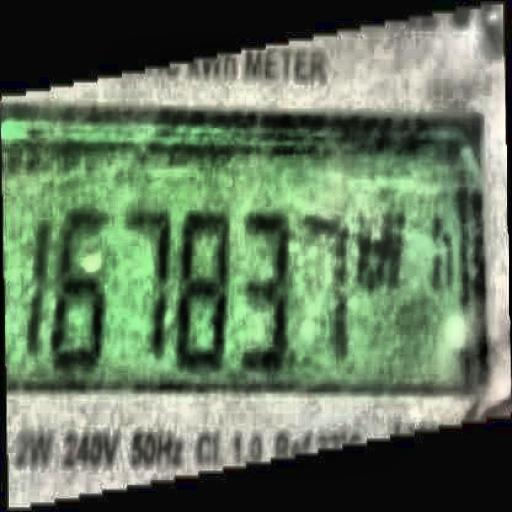DISPLAY_REGION: (0, 87, 511, 424)
SERIAL_REGION: (19, 203, 412, 373)
